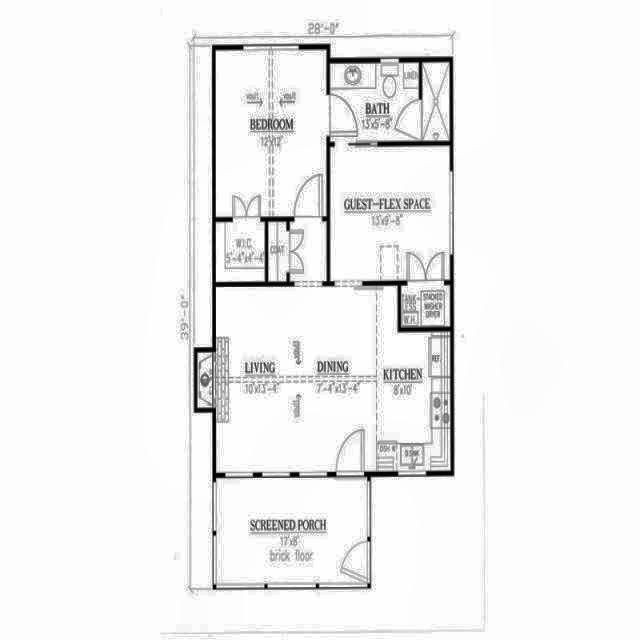room: (197, 285, 451, 472), (217, 50, 327, 216), (330, 147, 450, 280), (218, 480, 367, 582), (330, 63, 418, 140), (216, 222, 265, 281), (290, 221, 327, 280), (422, 63, 449, 140), (402, 286, 450, 326), (269, 221, 287, 281)
